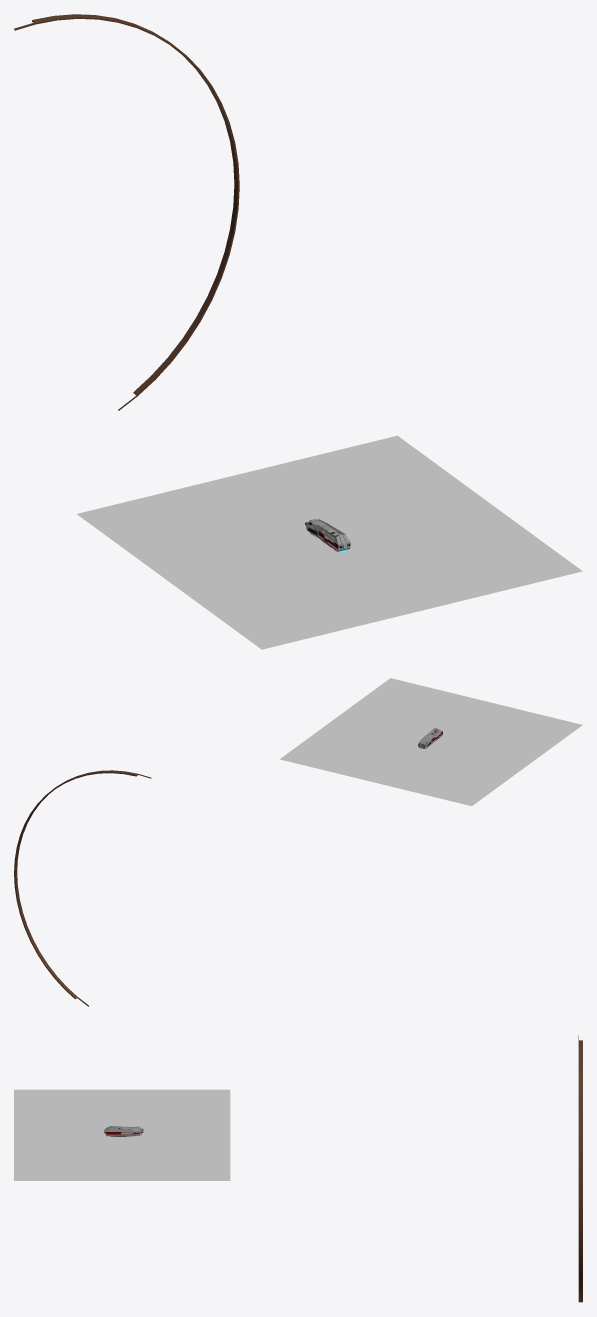
File: testt.obj
3 views of the same model, one above another, from view 1: azimuth 30°, elevation 25°; view 2: azimuth 150°, elevation 25°; view 3: azimuth 270°, elevation 25° (orthographic). The views are drawn at different scales.
Parts seen in each view (by area): view 1: Plane, 12217_rocket_v1_l1, Tank; view 2: Plane, 12217_rocket_v1_l1; view 3: Plane, 12217_rocket_v1_l1, Tank.
Boxes of the visible parts, <box> form: Plane: <box>77,435,582,649</box>; 12217_rocket_v1_l1: <box>14,14,306,525</box>; Tank: <box>306,519,350,553</box>; Plane: <box>280,678,582,806</box>; 12217_rocket_v1_l1: <box>14,744,424,1006</box>; Plane: <box>14,1089,230,1180</box>; 12217_rocket_v1_l1: <box>141,1035,582,1302</box>; Tank: <box>104,1126,141,1136</box>.
Bounding box in the file's own units: 173 × 146 × 316.
